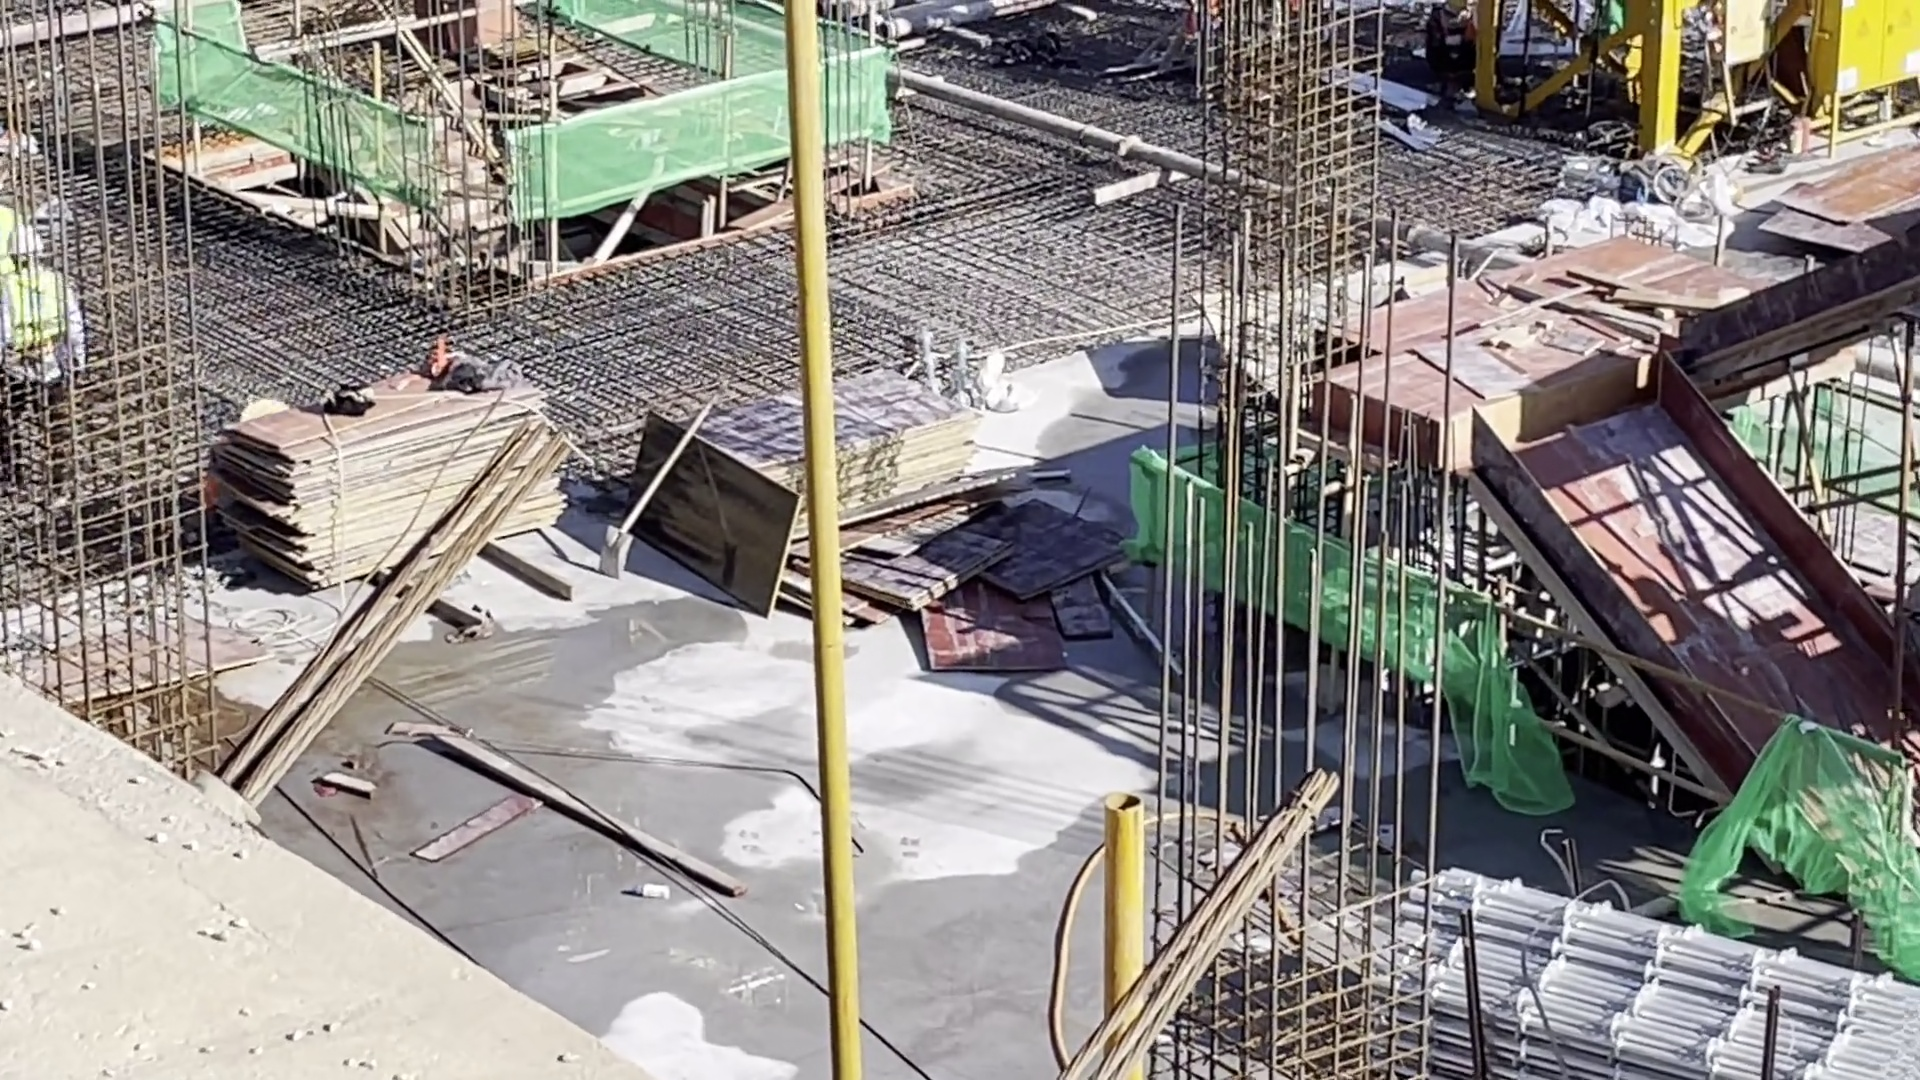board: (219, 392, 559, 576), (686, 401, 899, 567)
ebox: (1829, 1, 1893, 77)
helmet: (223, 392, 273, 427), (18, 211, 38, 257)
person: (3, 218, 68, 463), (1431, 1, 1472, 100)
scaffold: (1308, 831, 1901, 1080)
vest: (9, 266, 69, 377), (1439, 17, 1469, 64)
